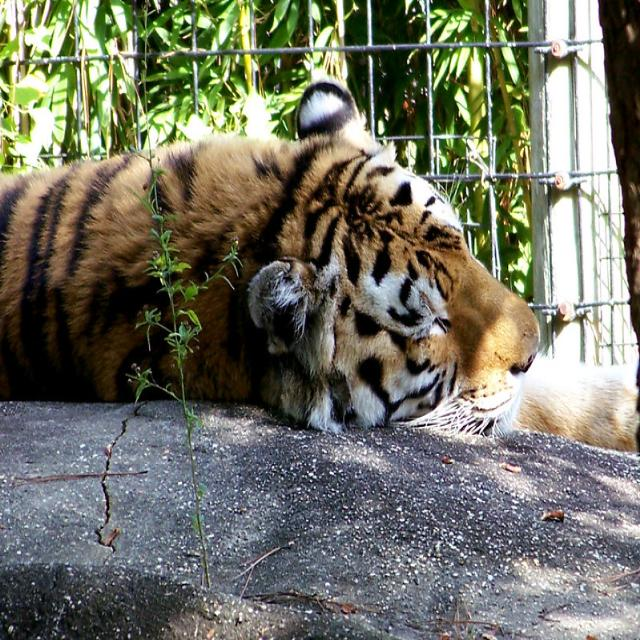Tiger: (0, 83, 539, 426)
